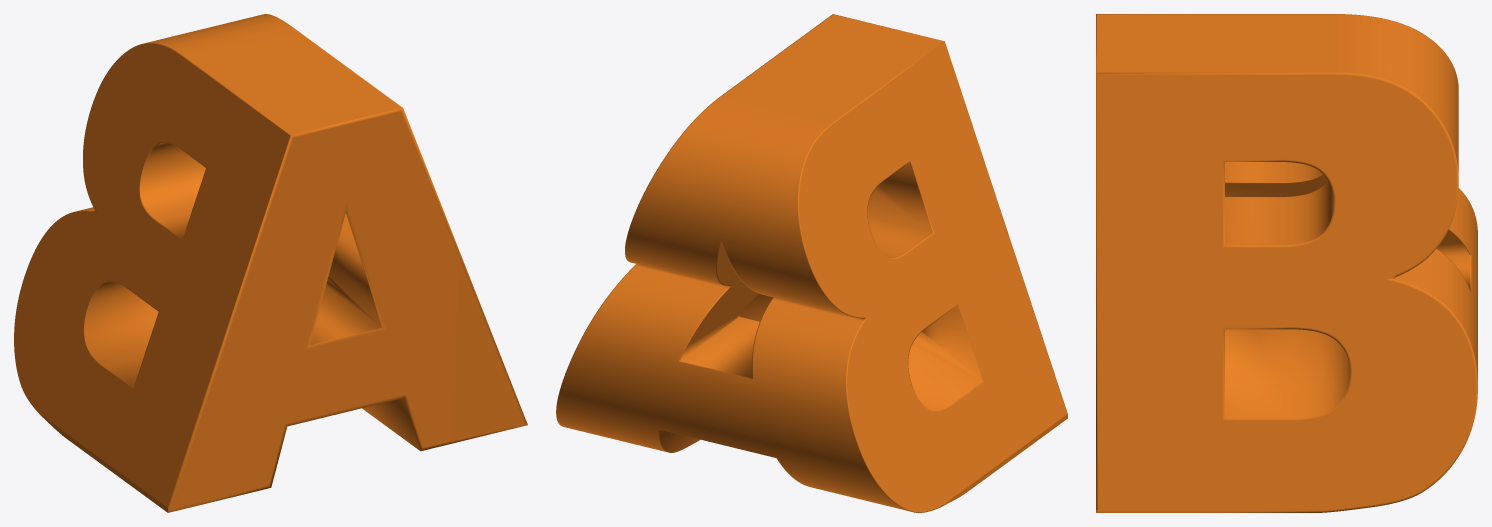
3 views of the same model, side by side, from view 1: azimuth 30°, elevation 25°; view 2: azimuth 150°, elevation 25°; view 3: azimuth 270°, elevation 25° (orthographic). The views are drawn at different scales.
Visible parts, largest first — view 1: Text; view 2: Text; view 3: Text.
Boxes of the visible parts, x1=… form: Text: x1=14, y1=14, x2=527, y2=512; Text: x1=556, y1=14, x2=1067, y2=512; Text: x1=1096, y1=14, x2=1477, y2=512.
Bounding box in the file's own units: 0.992 × 0.9154 × 0.8461.
